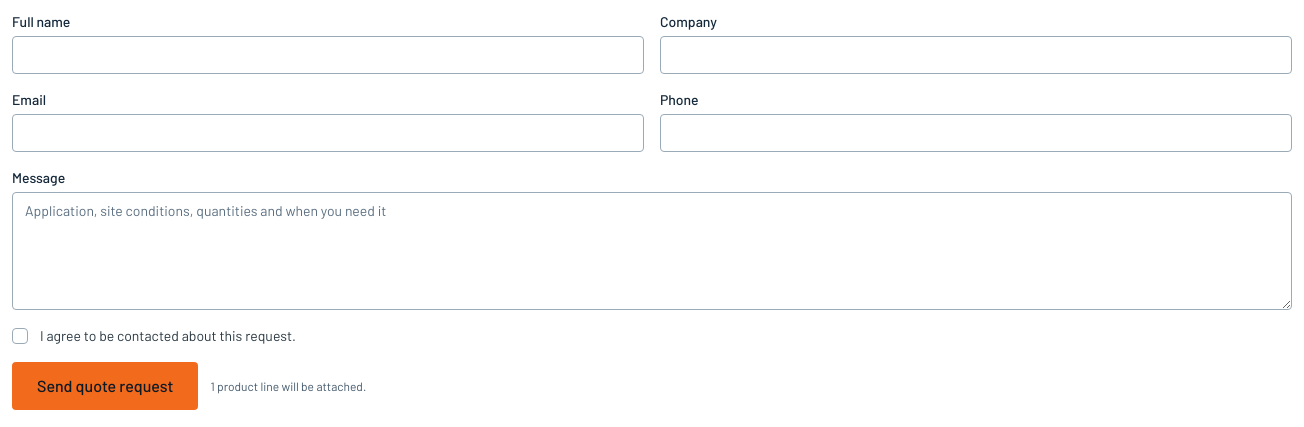
Scenario: valid submit stores an enquiry with basket items, clears the basket and shows the reference
The width and height of the screenshot is (1304, 427).
Step 1. Type "Ramon Villanueva" into the field labelled "Full name" → {"x": 328, "y": 55}, box x1=12 y1=36 x2=644 y2=74
Step 2. Type "Laguna Cold Chain" into the field labelled "Company" → {"x": 976, "y": 55}, box x1=660 y1=36 x2=1292 y2=74
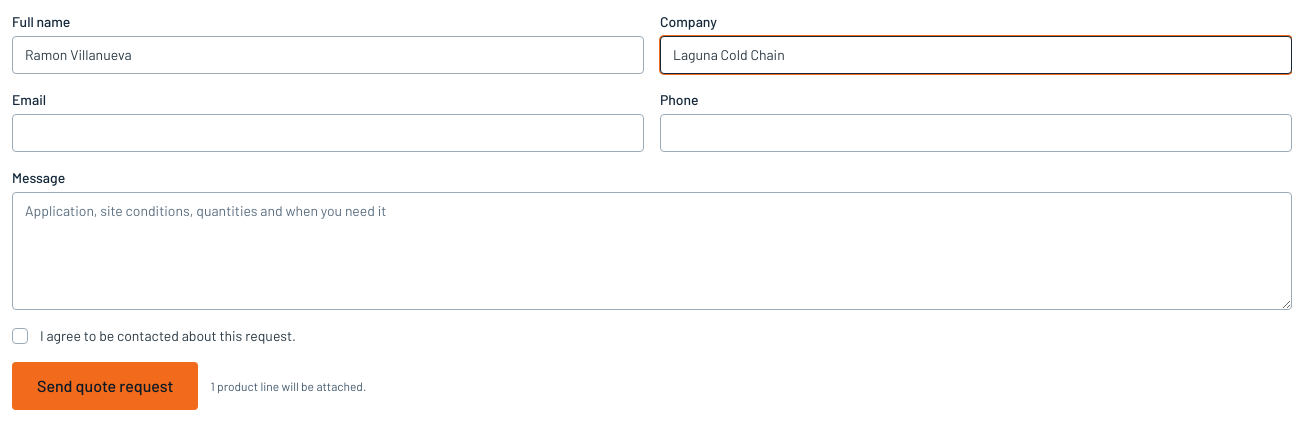
Step 3. Type "ramon@example.com" into the field labelled "Email" → {"x": 328, "y": 133}, box x1=12 y1=114 x2=644 y2=152
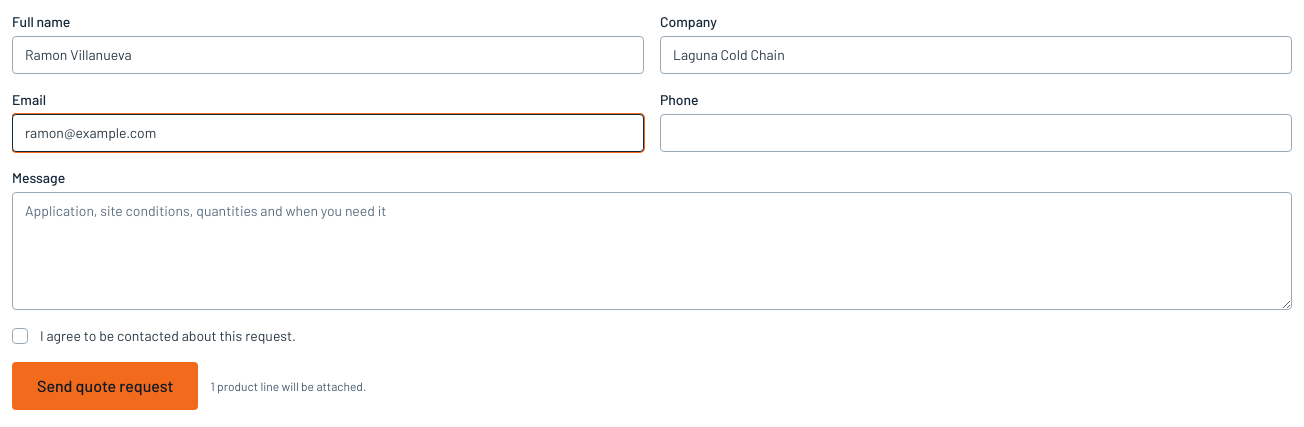
Step 4. Type "09171234567" into the field labelled "Phone" → {"x": 976, "y": 133}, box x1=660 y1=114 x2=1292 y2=152
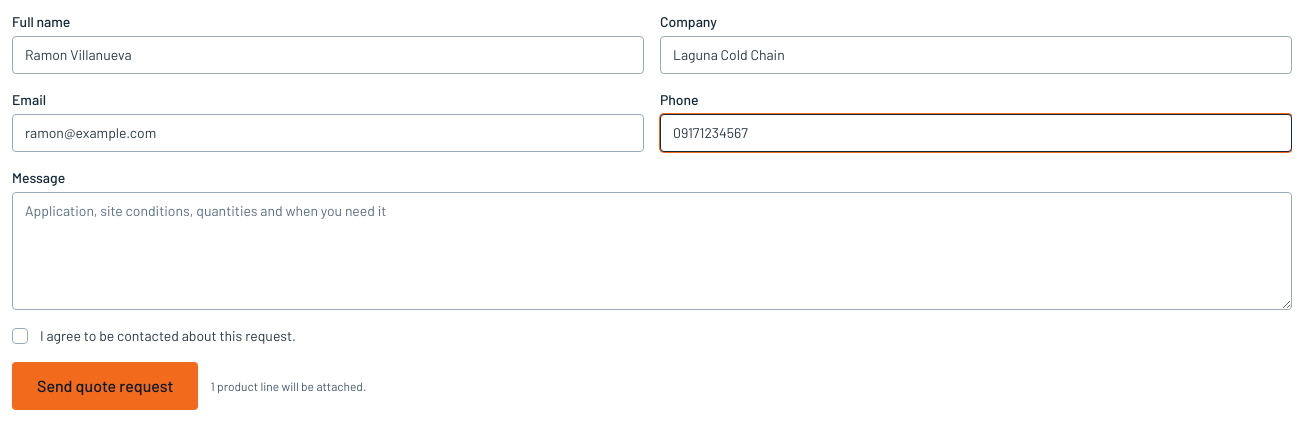
Step 5. Type "Need a standby set for a 180 kW load." into the text box labelled "Message" → {"x": 652, "y": 251}, box x1=12 y1=192 x2=1292 y2=310
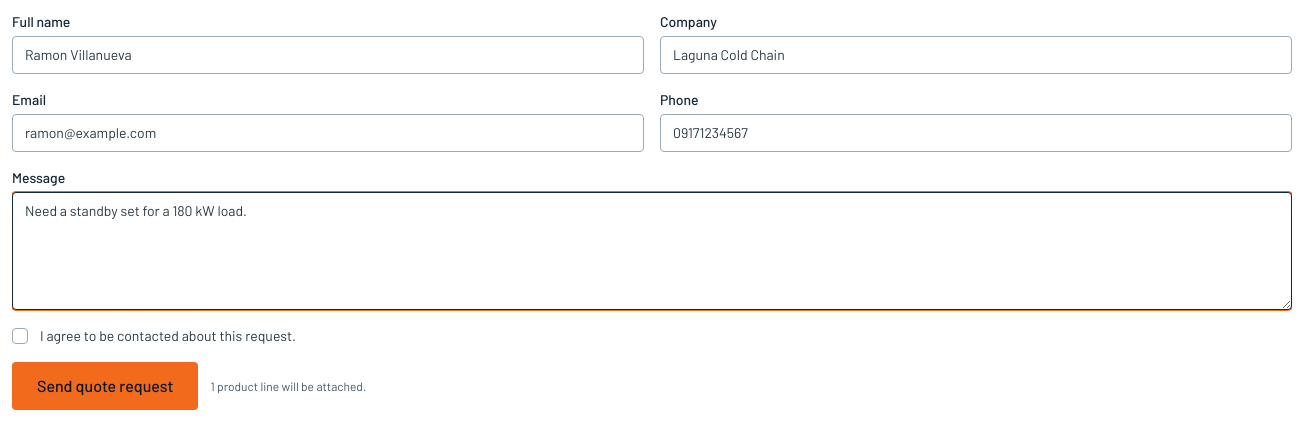
Step 6. Click the checkbox labelled "I agree to be contacted about this request." → {"x": 20, "y": 336}, box x1=12 y1=328 x2=28 y2=344
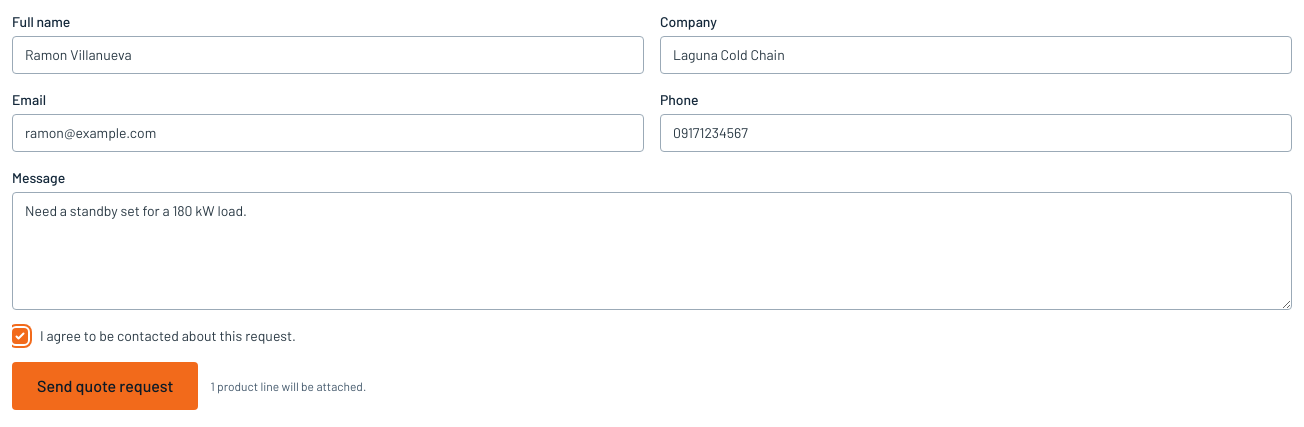
Step 7. Click the button "Send quote request" → {"x": 105, "y": 386}, box x1=12 y1=362 x2=198 y2=410
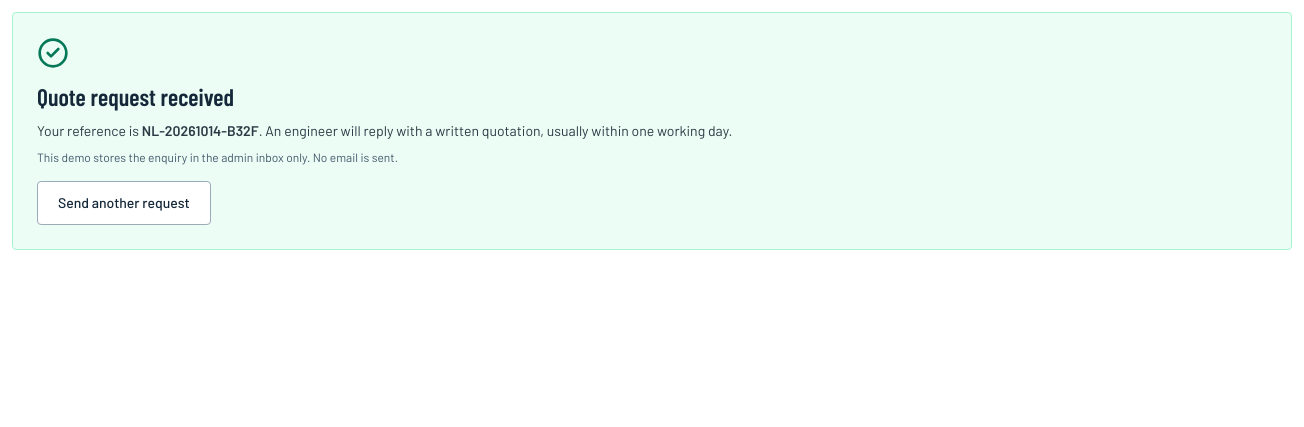
Now the text "NL-20261014-B32F" is shown, box x1=142 y1=122 x2=259 y2=139
